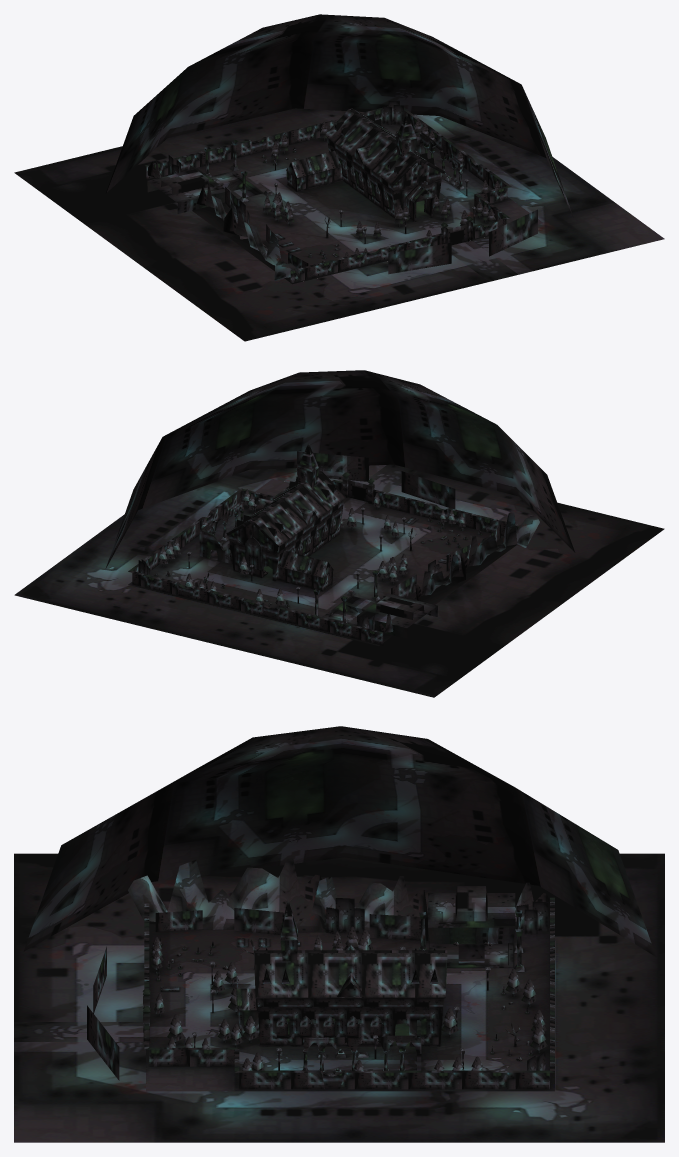
Rendered from Combined_Mesh_root_scene__18_bcf75302__churchyard_diffuse_02_3110d938_c1f257.obj.
3 views of the same model, one above another, from view 1: azimuth 30°, elevation 25°; view 2: azimuth 150°, elevation 25°; view 3: azimuth 270°, elevation 25° (orthographic). The views are drawn at different scales.
Size of the model in its own units: 139 by 56.25 by 132.
190 materials, 190 textured.
